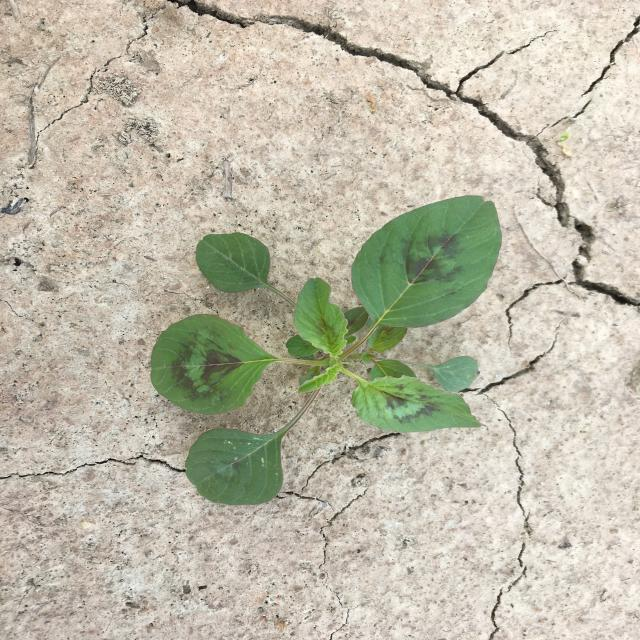PalmerAmaranth: (151, 195, 502, 505)
